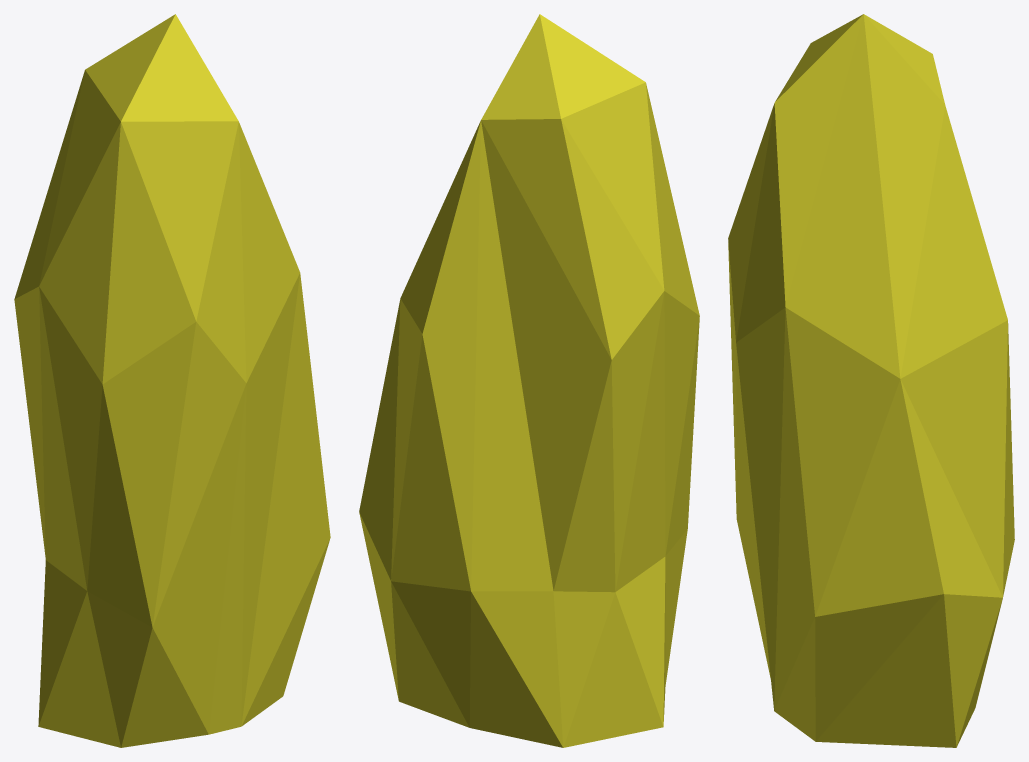
The model's file is Tree_8.fbx.
3 views of the same model, side by side, from view 1: azimuth 30°, elevation 25°; view 2: azimuth 150°, elevation 25°; view 3: azimuth 270°, elevation 25° (orthographic).
Visible parts, largest first — view 1: Tree_8; view 2: Tree_8; view 3: Tree_8.
Part boxes in pixels (x1=…): Tree_8: x1=14, y1=14, x2=330, y2=747; Tree_8: x1=359, y1=14, x2=699, y2=747; Tree_8: x1=728, y1=14, x2=1014, y2=747.
Size of the model in its own units: 413 by 988 by 374.
